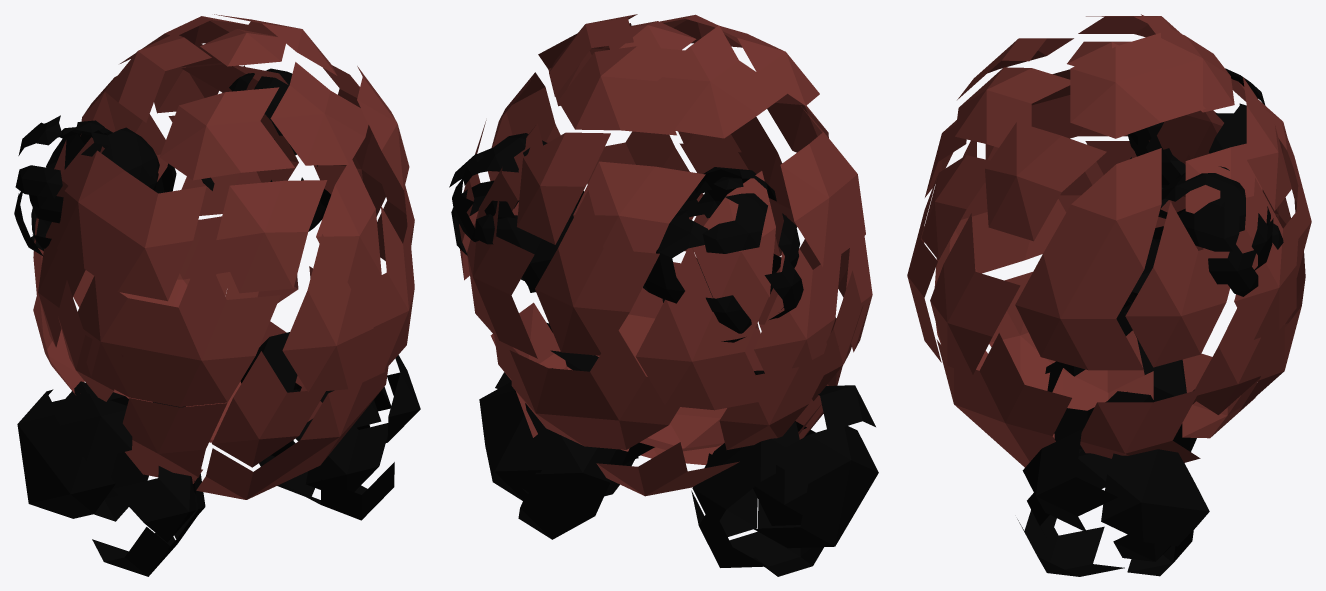
The model's file is explode.f0002.glb.
3 renders of one model, left to right at view 1: azimuth 30°, elevation 25°; view 2: azimuth 150°, elevation 25°; view 3: azimuth 270°, elevation 25°, orthographic. The views are drawn at different scales.
Parts seen in each view (by area): view 1: Body.001; view 2: Body.001; view 3: Body.001.
Boxes of the visible parts, x1,y1,x2,y2 form: Body.001: (14,14,420,576); Body.001: (449,14,878,576); Body.001: (907,14,1311,576).
Size of the model in its own units: 2.33 by 3.09 by 2.24.
1 material, 1 textured.
